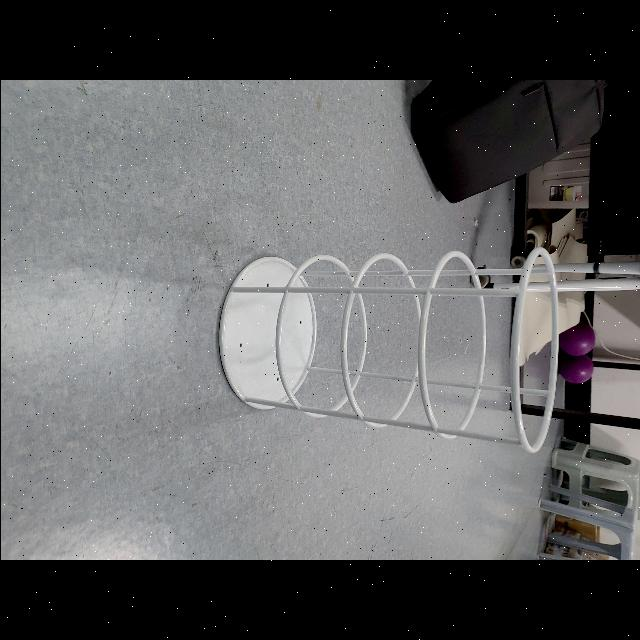S: (212, 243, 560, 457)
